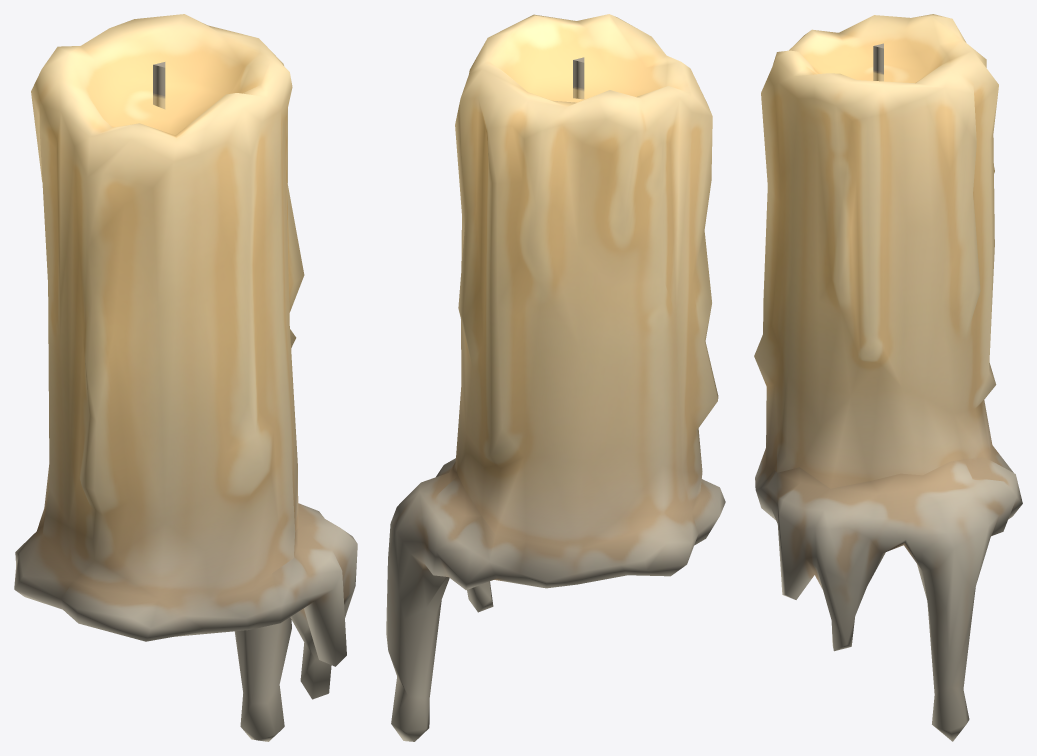
File: SM_CandleFat_01.fbx
3 renders of one model, left to right at view 1: azimuth 30°, elevation 25°; view 2: azimuth 150°, elevation 25°; view 3: azimuth 270°, elevation 25°, orthographic. The views are drawn at different scales.
Visible parts, largest first — view 1: SM_CandleFat_01_LOD0; view 2: SM_CandleFat_01_LOD0; view 3: SM_CandleFat_01_LOD0.
Boxes of the visible parts, x1=… form: SM_CandleFat_01_LOD0: x1=14, y1=14, x2=357, y2=741; SM_CandleFat_01_LOD0: x1=386, y1=14, x2=725, y2=741; SM_CandleFat_01_LOD0: x1=754, y1=14, x2=1022, y2=741.
Bounding box in the file's own units: 21.14 × 19.14 × 50.2.
